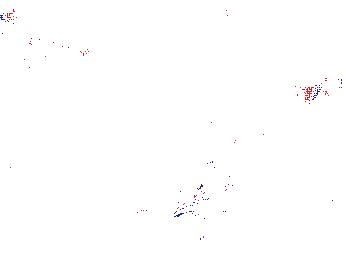red belly glassfish: (221, 35, 262, 48), (221, 1, 234, 17)
redtail glassfish: (23, 32, 95, 59), (302, 77, 346, 105)
siberian prawn: (168, 135, 243, 218)
